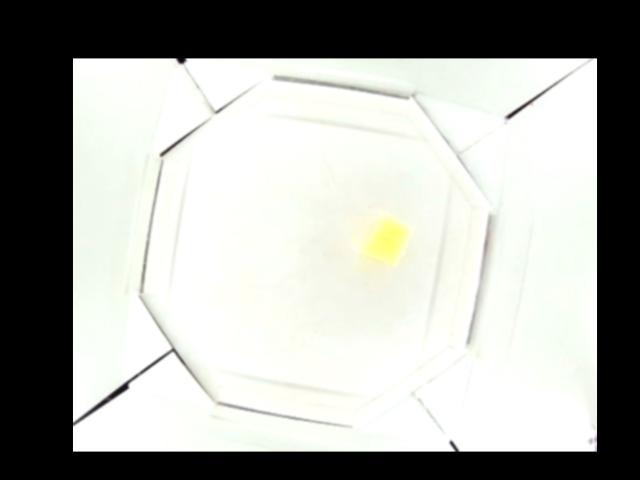Potato: (360, 214, 411, 268)
